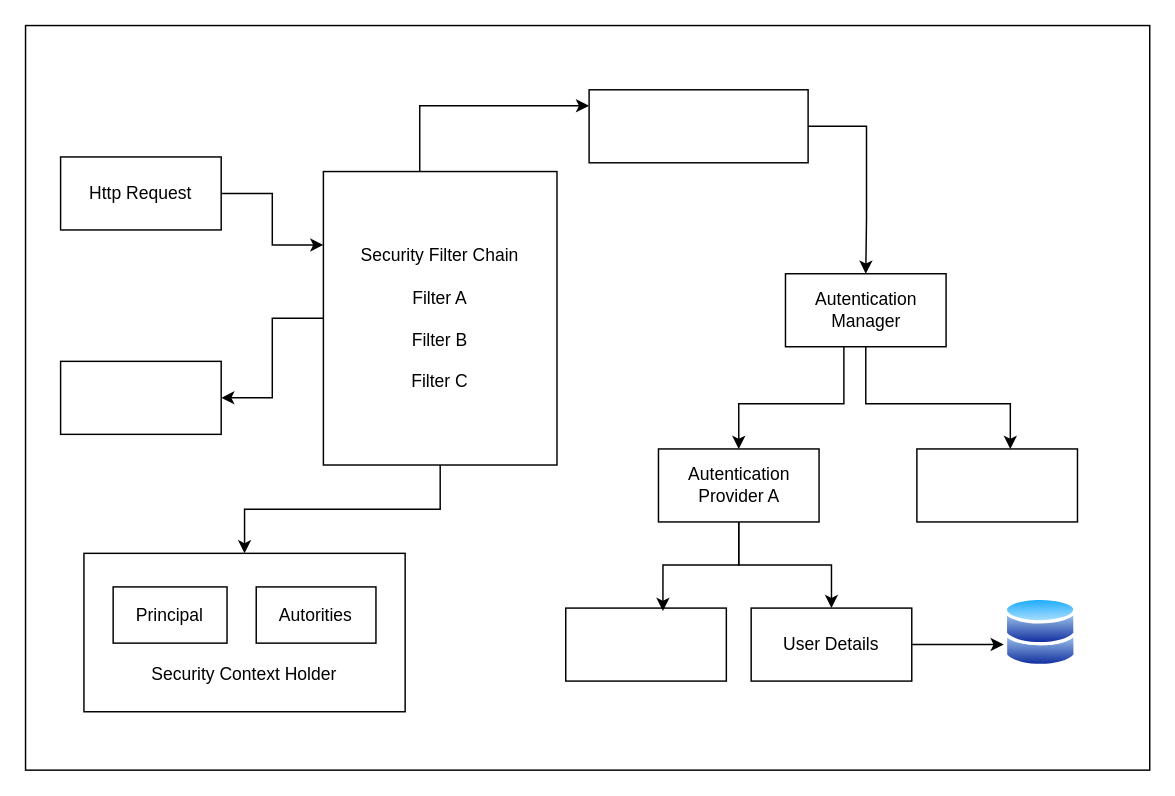
Image size: 1175x796. Some labels were removed from this diagram. Each missing label, with the box of its shape:
Autentication Provider B: (915, 447, 1077, 522)
Http Response: (59, 360, 221, 434)
Password Endocer: (564, 607, 726, 681)
UserAutenticationToken: (588, 88, 808, 163)
